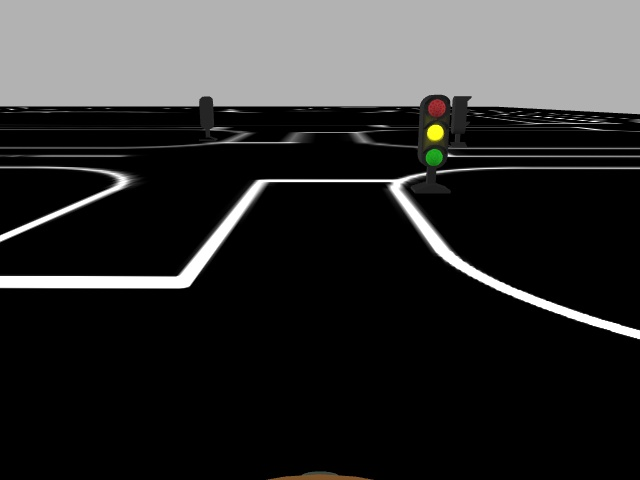yellow_light: (418, 94, 451, 170)
